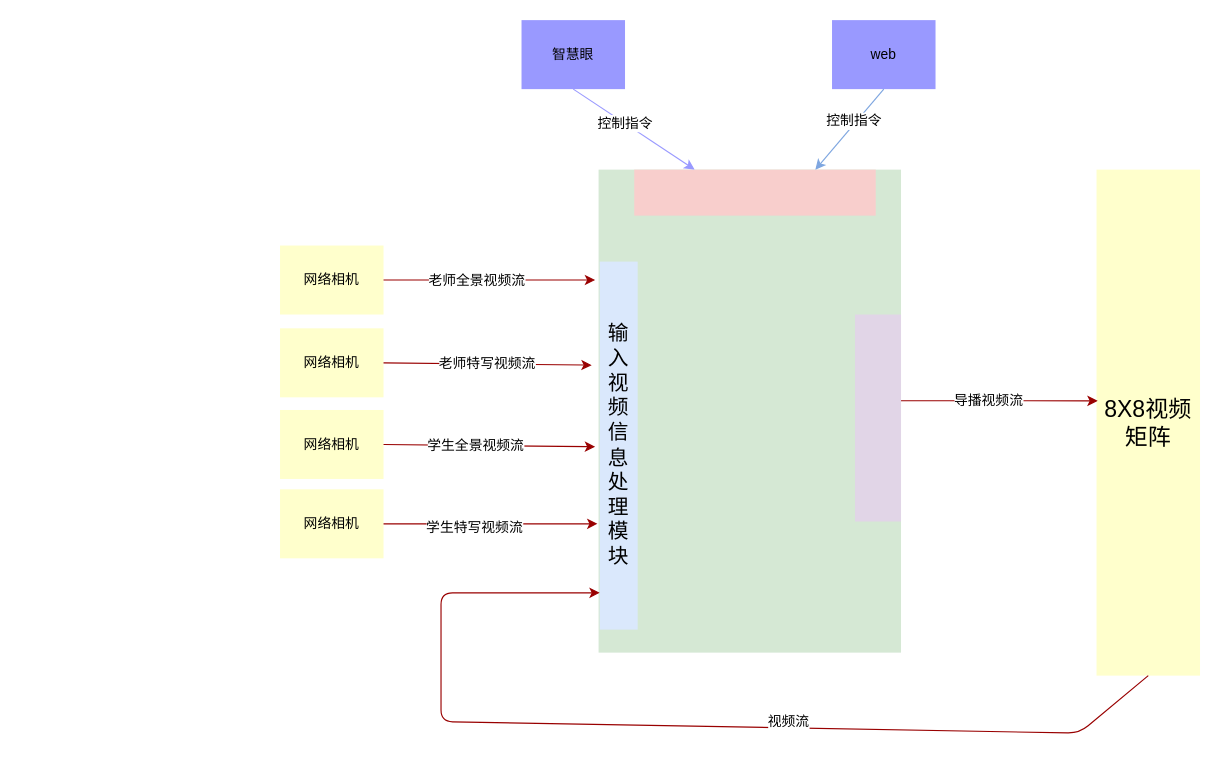
Image size: 1219x762. Some labels were removed from this diagram. The shapes that lost their labels are listed below. From the top down, each one's box as (x1, y1, x2, y2) in pixels, then its label:
(634, 169, 875, 215): 导播视频合成控制模块
(598, 169, 900, 652): 导播模块
(854, 314, 900, 521): 视频合成模块
